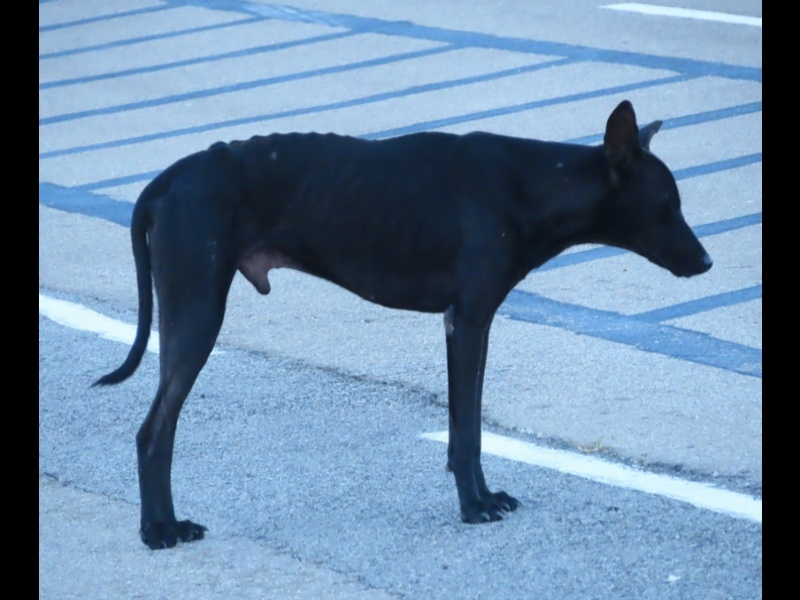dog: (97, 98, 712, 557)
